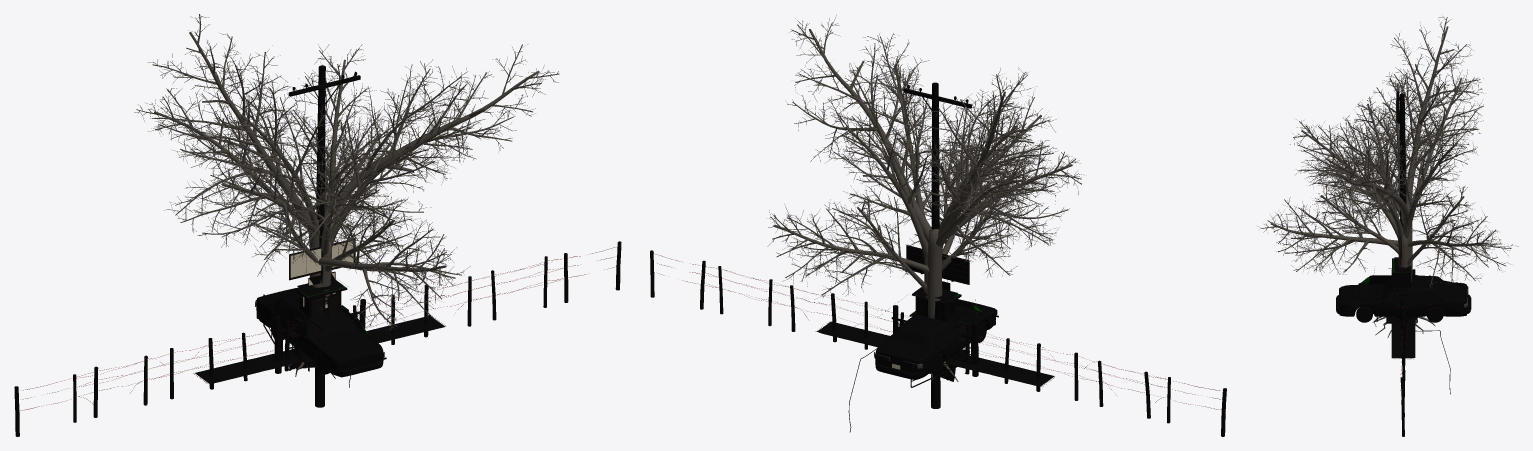
Rendered from props_m1.glb.
3 views of the same model, side by side, from view 1: azimuth 30°, elevation 25°; view 2: azimuth 150°, elevation 25°; view 3: azimuth 270°, elevation 25° (orthographic). The views are drawn at different scales.
Visible parts, largest first — view 1: P_TREE_2-dead_tree, P_TREE_1-dead_tree, P_CAR_GATE-sedan-body, P_FENCE_W-fence_run, P_RUNNER_U1-runner_rug, P_UTILITY_POLE-utility_pole, P_FENCE_E-fence_run, P_SIGN-sign_post-face, P_CAR_GATE-sedan, P_ARMOIRE-slatted_cabinet; view 2: P_TREE_2-dead_tree, P_TREE_1-dead_tree, P_CAR_GATE-sedan-body, P_FENCE_W-fence_run, P_RUNNER_U1-runner_rug, P_UTILITY_POLE-utility_pole, P_FENCE_E-fence_run, P_SIGN-sign_post, P_ARMOIRE-slatted_cabinet, P_CAR_GATE-sedan, P_GATE-farm_gate-leaf; view 3: P_TREE_2-dead_tree, P_TREE_1-dead_tree, P_CAR_GATE-sedan-body, P_UTILITY_POLE-utility_pole, P_CAR_GATE-sedan, P_RUNNER_U1-runner_rug, P_ARMOIRE-slatted_cabinet, P_CAR_INTERIOR-sedan_interior, P_FENCE_W-fence_run.
Part boxes in pixels (<box>): P_TREE_2-dead_tree: <box>134,14,559,378</box>; P_TREE_1-dead_tree: <box>217,44,472,370</box>; P_CAR_GATE-sedan-body: <box>256,287,383,377</box>; P_FENCE_W-fence_run: <box>14,241,621,436</box>; P_RUNNER_U1-runner_rug: <box>193,315,445,384</box>; P_UTILITY_POLE-utility_pole: <box>288,65,360,407</box>; P_FENCE_E-fence_run: <box>73,253,568,422</box>; P_SIGN-sign_post-face: <box>290,241,353,277</box>; P_CAR_GATE-sedan: <box>256,297,382,375</box>; P_ARMOIRE-slatted_cabinet: <box>295,279,347,317</box>; P_TREE_2-dead_tree: <box>767,14,1084,381</box>; P_TREE_1-dead_tree: <box>826,49,1057,381</box>; P_CAR_GATE-sedan-body: <box>875,299,996,379</box>; P_FENCE_W-fence_run: <box>650,250,1226,436</box>; P_RUNNER_U1-runner_rug: <box>815,321,1054,386</box>; P_UTILITY_POLE-utility_pole: <box>903,82,971,408</box>; P_FENCE_E-fence_run: <box>700,260,1170,423</box>; P_SIGN-sign_post: <box>906,245,969,284</box>; P_ARMOIRE-slatted_cabinet: <box>912,287,961,361</box>; P_CAR_GATE-sedan: <box>875,299,995,378</box>; P_GATE-farm_gate-leaf: <box>910,330,972,387</box>; P_TREE_2-dead_tree: <box>1257,16,1518,335</box>; P_TREE_1-dead_tree: <box>1290,71,1477,337</box>; P_CAR_GATE-sedan-body: <box>1339,275,1467,316</box>; P_UTILITY_POLE-utility_pole: <box>1395,91,1406,358</box>; P_CAR_GATE-sedan: <box>1336,268,1471,322</box>; P_RUNNER_U1-runner_rug: <box>1391,269,1415,358</box>; P_ARMOIRE-slatted_cabinet: <box>1392,257,1411,319</box>; P_CAR_INTERIOR-sedan_interior: <box>1358,275,1409,313</box>; P_FENCE_W-fence_run: <box>1401,306,1405,436</box>.
Size of what is drawn, in the model's own units: 20.6 by 13.42 by 10.01.
